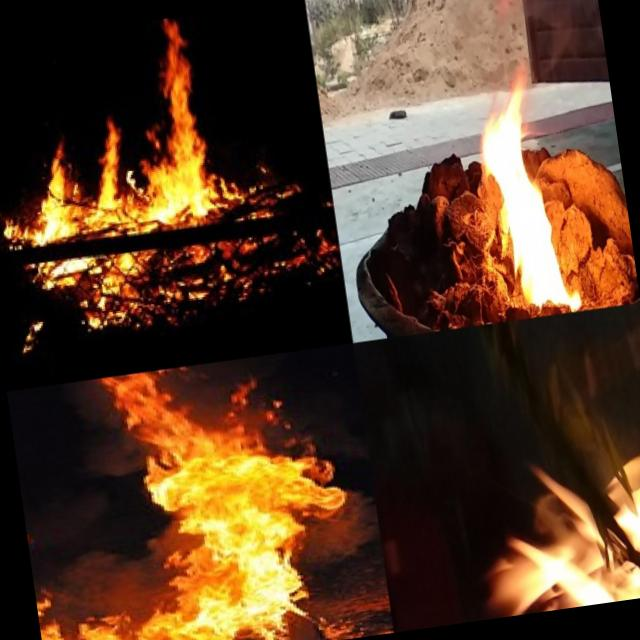fire: (8, 353, 375, 640), (0, 12, 245, 307), (424, 433, 640, 625), (458, 48, 583, 314)
smoke: (538, 0, 607, 70)
